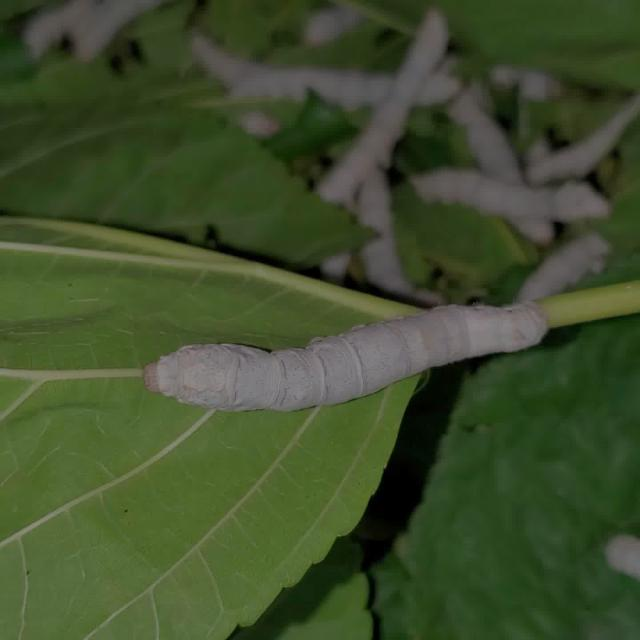Healthy: (138, 291, 556, 417)
